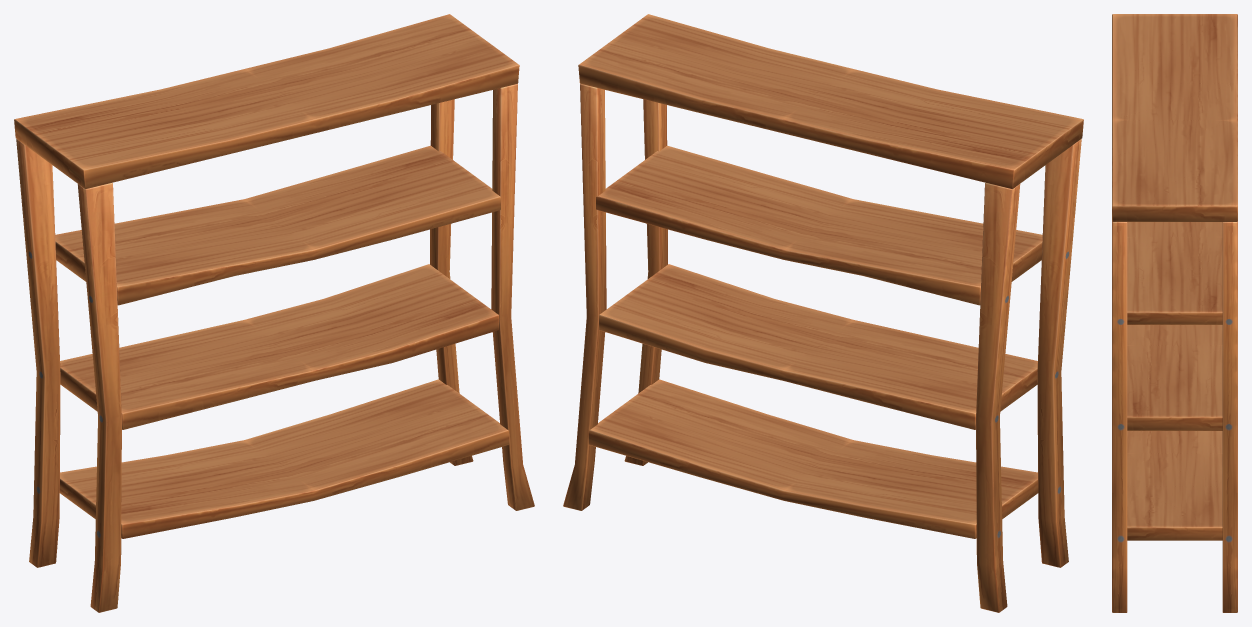
The model's file is BarrelStands01_2.FBX.
3 renders of one model, left to right at view 1: azimuth 30°, elevation 25°; view 2: azimuth 150°, elevation 25°; view 3: azimuth 270°, elevation 25°, orthographic. The views are drawn at different scales.
Parts seen in each view (by area): view 1: BarrelStands01_2; view 2: BarrelStands01_2; view 3: BarrelStands01_2.
Boxes of the visible parts, x1,y1,x2,y2 form: BarrelStands01_2: (14, 14, 534, 612); BarrelStands01_2: (563, 14, 1083, 612); BarrelStands01_2: (1112, 14, 1237, 612).
Size of what is drawn, in the model's own units: 3.18 by 3.01 by 0.8531.
